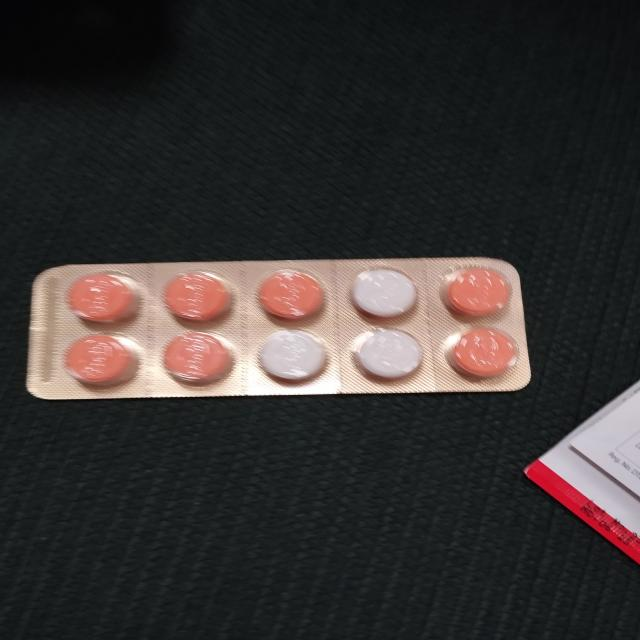B3: (24, 258, 534, 398)
